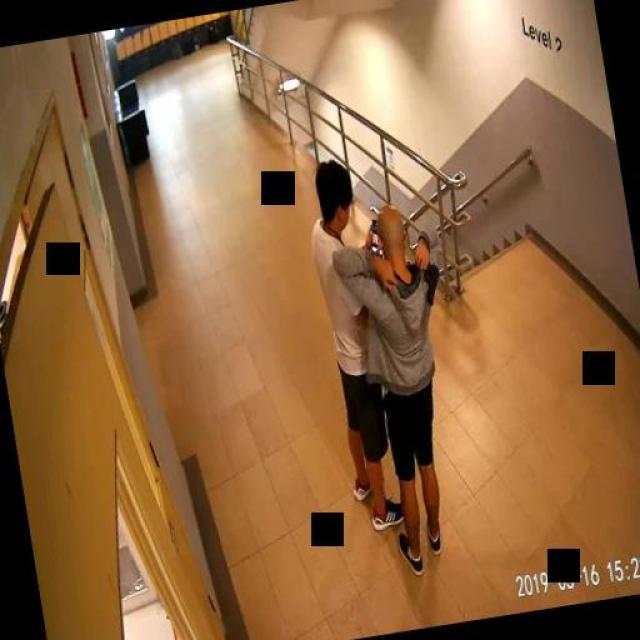gun: (416, 251, 442, 305)
